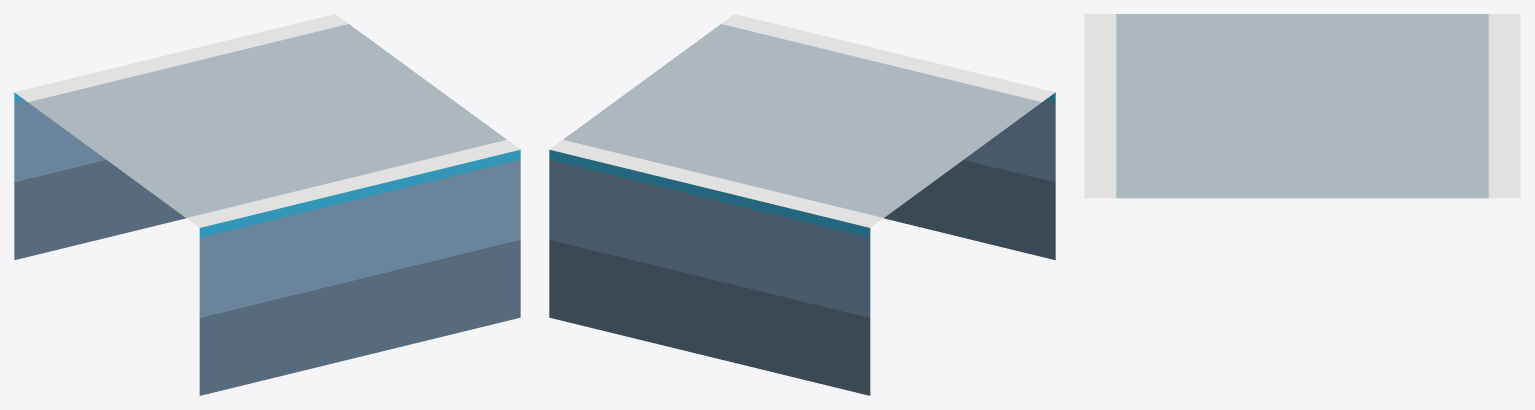
Rendered from TileFace1010Corner____.fbx.
3 renders of one model, left to right at view 1: azimuth 30°, elevation 25°; view 2: azimuth 150°, elevation 25°; view 3: azimuth 270°, elevation 25°, orthographic. The views are drawn at different scales.
Parts seen in each view (by area): view 1: Face1010Corner____v1_; view 2: Face1010Corner____v1_; view 3: Face1010Corner____v1_.
Boxes of the visible parts, box(x1,y1,x2,y2) form: Face1010Corner____v1_: box(14, 14, 520, 395); Face1010Corner____v1_: box(549, 14, 1055, 395); Face1010Corner____v1_: box(1084, 14, 1520, 198).
Bounding box in the file's own units: 100 × 50 × 100.
